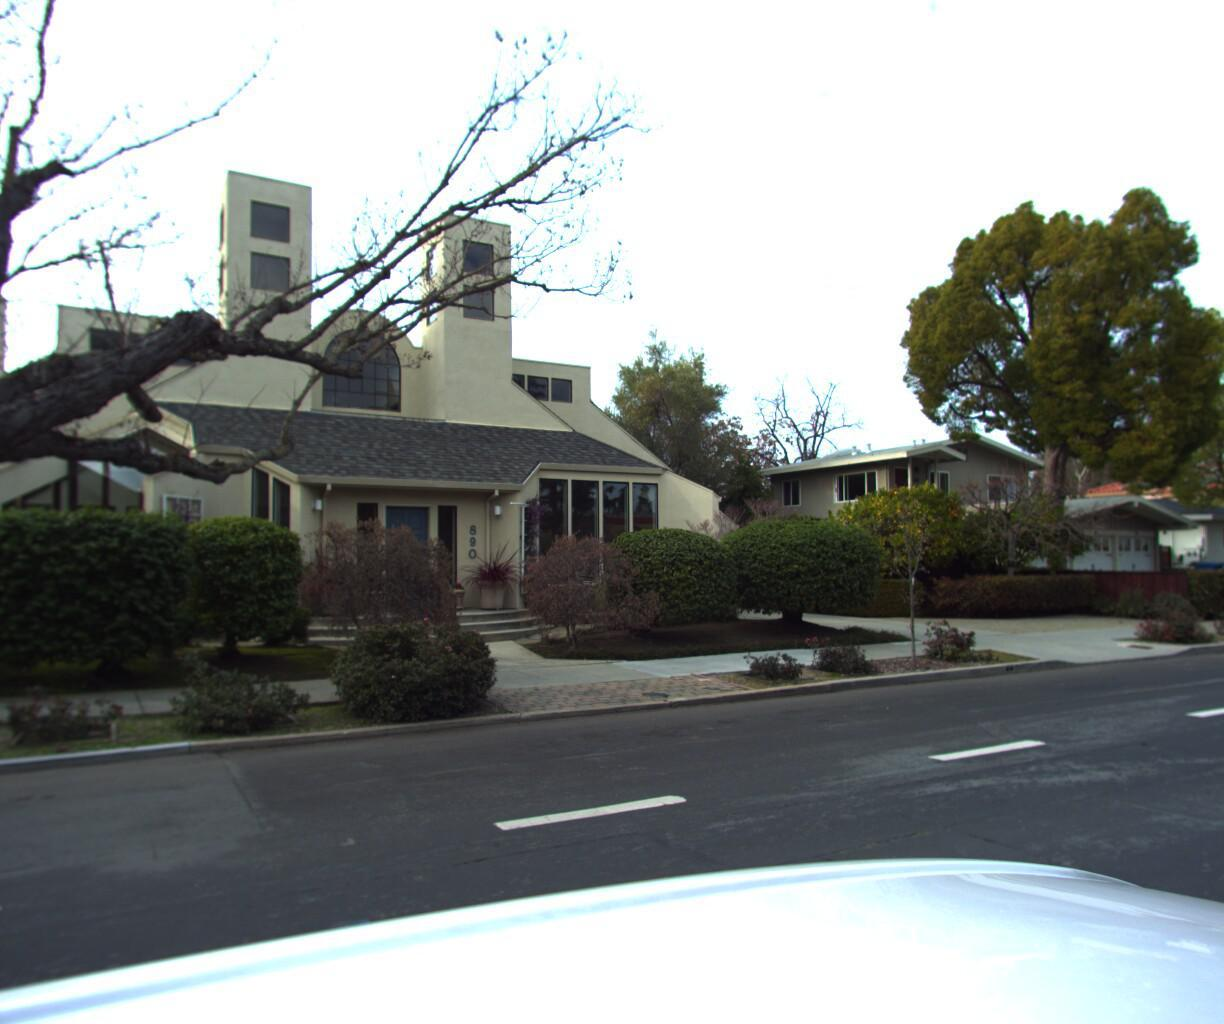car: (1173, 550, 1224, 598)
